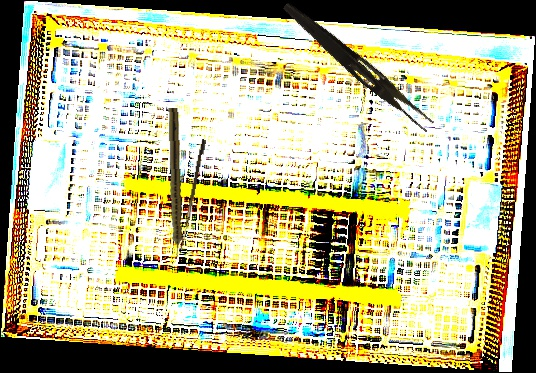Dressing Forceps: (276, 0, 439, 133)
Handpiece: (165, 107, 184, 260)
Hook Surgical: (180, 138, 207, 252)
